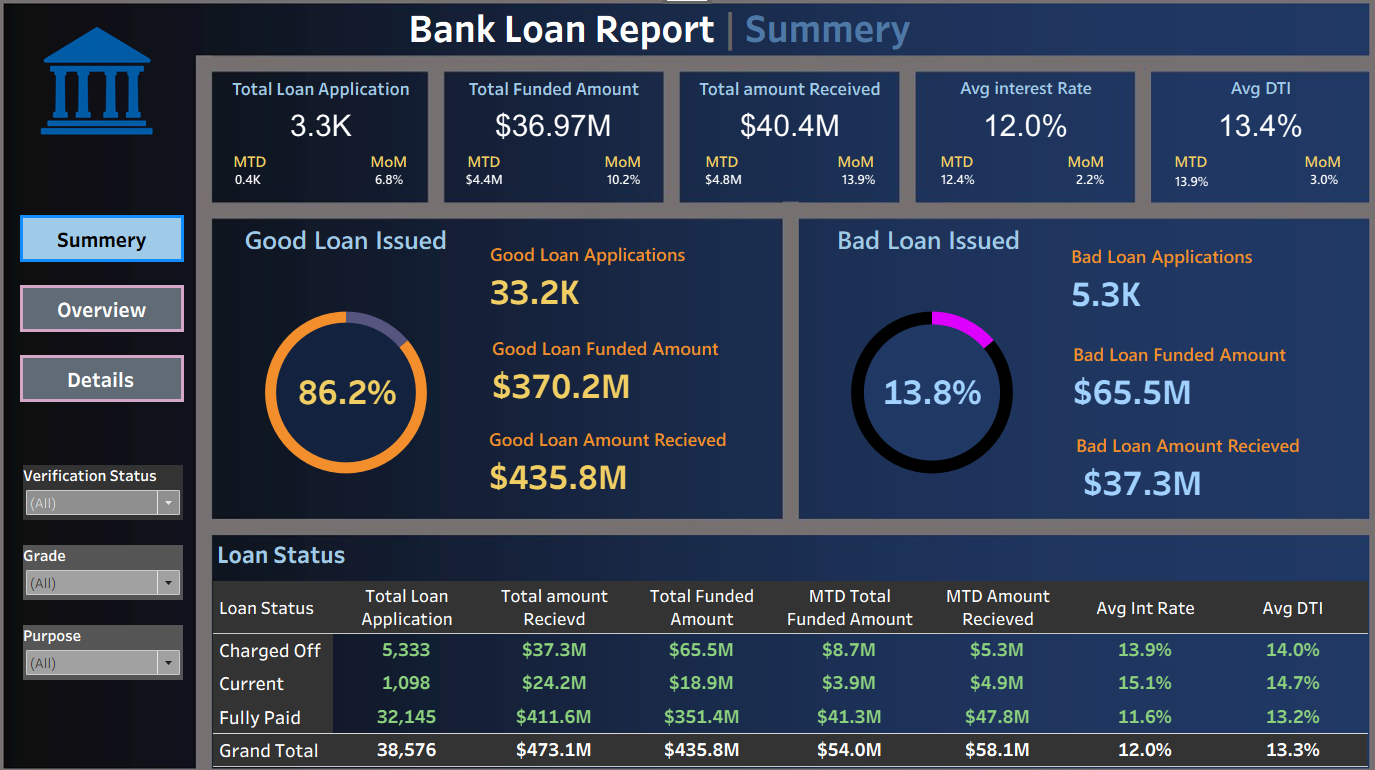

The dashboard page shown, as its layout file describes it:
{"tool":"tableau","page":{"name":"Summery","canvas":[1000,1000],"units":"permille","ordinal":2},"visuals":[{"type":"image","param":"Image/Tableau Background 1.jpg","box":[5,10,990,980]},{"type":"text","box":[323.8,17.5,331.2,68.6]},{"type":"image","param":"Image/ChatGPT Image Oct 29, 2025, 01_03_14 PM.png","box":[70,22.4,121.9,230.7]},{"type":"worksheet","title":"Total Loan Application","mark":"Automatic","box":[202.5,108.5,137.5,87.3]},{"type":"worksheet","title":"Total Funded Amount","mark":"Automatic","box":[348.1,108.5,137.5,87.3]},{"type":"worksheet","title":"Total amount Received","mark":"Automatic","box":[495.6,108.5,137.5,87.3]},{"type":"worksheet","title":"Avg interest Rate","mark":"Automatic","box":[643.1,108.5,137.5,87.3]},{"type":"worksheet","title":"Avg DTI","mark":"Automatic","box":[790,108.5,137.5,87.3]},{"type":"text","box":[214.4,204.5,27.5,28.7]},{"type":"text","box":[300,204.5,27.5,28.7]},{"type":"text","box":[360.6,204.5,27.5,28.7]},{"type":"text","box":[446.2,204.5,27.5,28.7]},{"type":"text","box":[509.4,204.5,23.1,28.7]},{"type":"text","box":[591.9,204.5,27.5,28.7]},{"type":"text","box":[656.2,204.5,27.5,28.7]},{"type":"text","box":[735.6,204.5,27.5,28.7]},{"type":"text","box":[802.5,204.5,27.5,28.7]},{"type":"text","box":[883.8,204.5,27.5,28.7]},{"type":"worksheet","title":"MTD Total Laon Application","mark":"Automatic","box":[208.8,228.2,34.4,28.7]},{"type":"worksheet","title":"MoM  Laon Application","mark":"Automatic","box":[296.9,228.2,34.4,28.7]},{"type":"worksheet","title":"MTD Total Funded Ammount","mark":"Automatic","box":[355,228.2,35,28.7]},{"type":"worksheet","title":"MoM  Total Funded Amount","mark":"Automatic","box":[445,228.2,31.2,28.7]},{"type":"worksheet","title":"MTD Total Amount Recievd","mark":"Automatic","box":[504.4,228.2,37.5,28.7]},{"type":"worksheet","title":"MoM Total Amount recieved","mark":"Automatic","box":[591.9,228.2,31.2,28.7]},{"type":"worksheet","title":"MTD Avg Interest Rate","mark":"Automatic","box":[652.5,228.2,34.4,28.7]},{"type":"worksheet","title":"MoM Avg int Rate","mark":"Automatic","box":[735,228.2,34.4,28.7]},{"type":"worksheet","title":"MTD Avg DTI","mark":"Automatic","box":[798.8,228.2,34.4,32.4]},{"type":"worksheet","title":"MoM Avg DTI","mark":"Automatic","box":[881.2,228.2,34.4,28.7]},{"type":"dashboard-object","box":[83.1,286.8,102.5,58.6]},{"type":"worksheet","title":"Good Loan Issued","mark":"Pie","rows":["Calculation_863846772103847960","Calculation_863846772103847960"],"box":[202.5,290.5,168.8,374.1]},{"type":"worksheet","title":"Bad Loan Issued ","mark":"Pie","rows":["Calculation_863846772103847960","Calculation_863846772103847960"],"box":[568.8,290.5,168.8,374.1]},{"type":"worksheet","title":"Good Loan Applications","mark":"Automatic","box":[371.9,310.5,187.5,93.5]},{"type":"worksheet","title":"Bad Loan Applications ","mark":"Automatic","box":[735,313,187.5,93.5]},{"type":"dashboard-object","box":[83.1,374.1,102.5,58.6]},{"type":"worksheet","title":"Good Loan Funded Amount","mark":"Automatic","box":[373.1,427.7,187.5,93.5]},{"type":"worksheet","title":"Bad Loan Funded Amount ","mark":"Automatic","box":[736.2,435.2,187.5,93.5]},{"type":"dashboard-object","box":[83.1,461.4,102.5,58.6]},{"type":"worksheet","title":"Good Loan application perce.","mark":"Automatic","box":[250,475.1,76.2,62.3]},{"type":"worksheet","title":"Bad Loan %","mark":"Automatic","box":[615.6,475.1,76.2,62.3]},{"type":"worksheet","title":"Good Loan Amount Recieved ","mark":"Automatic","box":[371.2,541.1,187.5,93.5]},{"type":"worksheet","title":"Bad Loan Amount Recieved ","mark":"Automatic","box":[738.1,548.6,187.5,93.5]},{"type":"filter","title":"Good Loan Issued","param":"[federated.1wn1w61167jnc519fe91r04a9m42].[none:verification_status:nk]","box":[85,598.5,100,68.6]},{"type":"worksheet","title":"Loan Status","mark":"Automatic","rows":["loan_status"],"box":[203.8,684.5,721.9,290.5]},{"type":"filter","title":"Good Loan Issued","param":"[federated.1wn1w61167jnc519fe91r04a9m42].[none:grade:nk]","box":[85,698.2,100,68.6]},{"type":"filter","title":"Good Loan Issued","param":"[federated.1wn1w61167jnc519fe91r04a9m42].[none:purpose:nk]","box":[85,798,100,68.6]}]}

Visuals, with their boxes on the dashboard's canvas, which has no fixed pixel size, in thousandths of its width and height (x1, y1, x2, y2). These are canvas units, not pixel positions in the 1375x770 screenshot, which may show the page scaled, cropped or inside an application window:
image: [x1=5, y1=10, x2=995, y2=990]
text: [x1=324, y1=18, x2=655, y2=86]
image: [x1=70, y1=22, x2=192, y2=253]
"Total Loan Application" worksheet: [x1=202, y1=108, x2=340, y2=196]
"Total Funded Amount" worksheet: [x1=348, y1=108, x2=486, y2=196]
"Total amount Received" worksheet: [x1=496, y1=108, x2=633, y2=196]
"Avg interest Rate" worksheet: [x1=643, y1=108, x2=781, y2=196]
"Avg DTI" worksheet: [x1=790, y1=108, x2=928, y2=196]
text: [x1=214, y1=204, x2=242, y2=233]
text: [x1=300, y1=204, x2=328, y2=233]
text: [x1=361, y1=204, x2=388, y2=233]
text: [x1=446, y1=204, x2=474, y2=233]
text: [x1=509, y1=204, x2=532, y2=233]
text: [x1=592, y1=204, x2=619, y2=233]
text: [x1=656, y1=204, x2=684, y2=233]
text: [x1=736, y1=204, x2=763, y2=233]
text: [x1=802, y1=204, x2=830, y2=233]
text: [x1=884, y1=204, x2=911, y2=233]
"MTD Total Laon Application" worksheet: [x1=209, y1=228, x2=243, y2=257]
"MoM  Laon Application" worksheet: [x1=297, y1=228, x2=331, y2=257]
"MTD Total Funded Ammount" worksheet: [x1=355, y1=228, x2=390, y2=257]
"MoM  Total Funded Amount" worksheet: [x1=445, y1=228, x2=476, y2=257]
"MTD Total Amount Recievd" worksheet: [x1=504, y1=228, x2=542, y2=257]
"MoM Total Amount recieved" worksheet: [x1=592, y1=228, x2=623, y2=257]
"MTD Avg Interest Rate" worksheet: [x1=652, y1=228, x2=687, y2=257]
"MoM Avg int Rate" worksheet: [x1=735, y1=228, x2=769, y2=257]
"MTD Avg DTI" worksheet: [x1=799, y1=228, x2=833, y2=261]
"MoM Avg DTI" worksheet: [x1=881, y1=228, x2=916, y2=257]
dashboard-object: [x1=83, y1=287, x2=186, y2=345]
"Good Loan Issued" worksheet (Pie marks): [x1=202, y1=290, x2=371, y2=665]
"Bad Loan Issued " worksheet (Pie marks): [x1=569, y1=290, x2=738, y2=665]
"Good Loan Applications" worksheet: [x1=372, y1=310, x2=559, y2=404]
"Bad Loan Applications " worksheet: [x1=735, y1=313, x2=922, y2=406]
dashboard-object: [x1=83, y1=374, x2=186, y2=433]
"Good Loan Funded Amount" worksheet: [x1=373, y1=428, x2=561, y2=521]
"Bad Loan Funded Amount " worksheet: [x1=736, y1=435, x2=924, y2=529]
dashboard-object: [x1=83, y1=461, x2=186, y2=520]
"Good Loan application perce." worksheet: [x1=250, y1=475, x2=326, y2=537]
"Bad Loan %" worksheet: [x1=616, y1=475, x2=692, y2=537]
"Good Loan Amount Recieved " worksheet: [x1=371, y1=541, x2=559, y2=635]
"Bad Loan Amount Recieved " worksheet: [x1=738, y1=549, x2=926, y2=642]
"Good Loan Issued" filter: [x1=85, y1=598, x2=185, y2=667]
"Loan Status" worksheet: [x1=204, y1=684, x2=926, y2=975]
"Good Loan Issued" filter: [x1=85, y1=698, x2=185, y2=767]
"Good Loan Issued" filter: [x1=85, y1=798, x2=185, y2=867]
